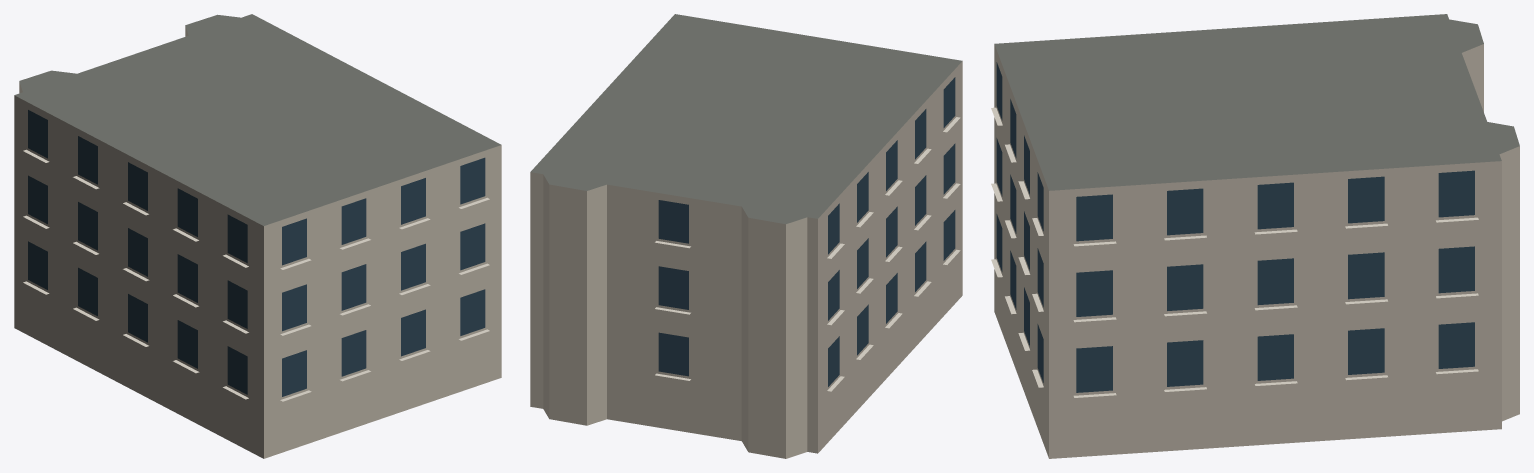
The picture shows the model from 3 angles, left to right: view 1: azimuth 30°, elevation 25°; view 2: azimuth 150°, elevation 25°; view 3: azimuth 270°, elevation 25°; orthographic projection. The views are drawn at different scales.
Visible parts, largest first — view 1: Footprint 0, Inferred window bays, Window sills; view 2: Footprint 0, Inferred window bays, Window sills; view 3: Footprint 0, Inferred window bays, Window sills.
Part boxes in pixels (x1,y1,x2,y2): Footprint 0: (14, 14, 501, 458); Inferred window bays: (28, 110, 485, 396); Window sills: (23, 149, 489, 401); Footprint 0: (530, 14, 962, 458); Inferred window bays: (658, 77, 955, 386); Window sills: (655, 117, 960, 391); Footprint 0: (994, 14, 1519, 458); Inferred window bays: (996, 62, 1474, 392); Window sills: (991, 107, 1478, 397).
Size of the model in its own units: 14.29 by 9.95 by 17.79.
